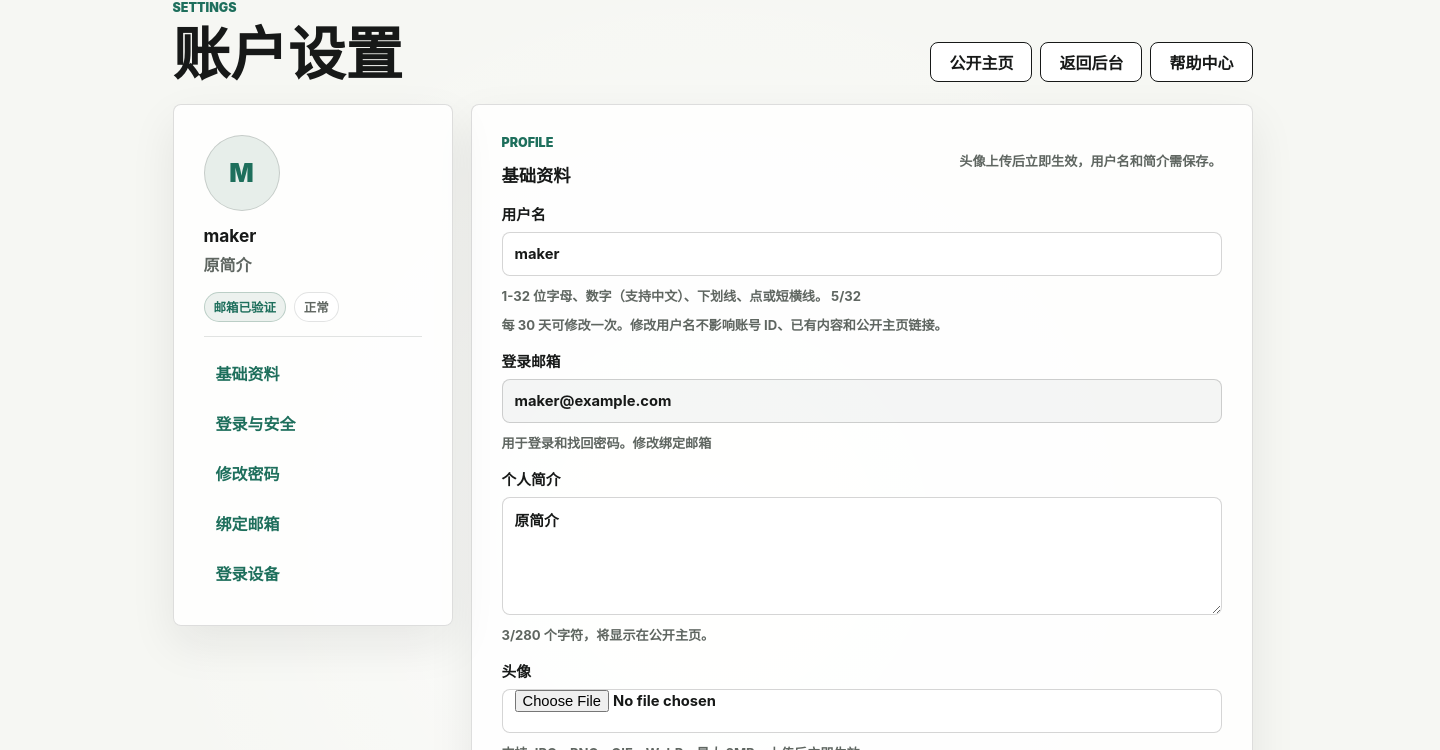
Test: 账号设置操作 › 保存失败保留草稿，重复提交只发一次请求
Replace the text in the text box labelled "个人简介" with "草稿". click: (862, 556)
box: [502,497,1222,615]
(page scrolled)
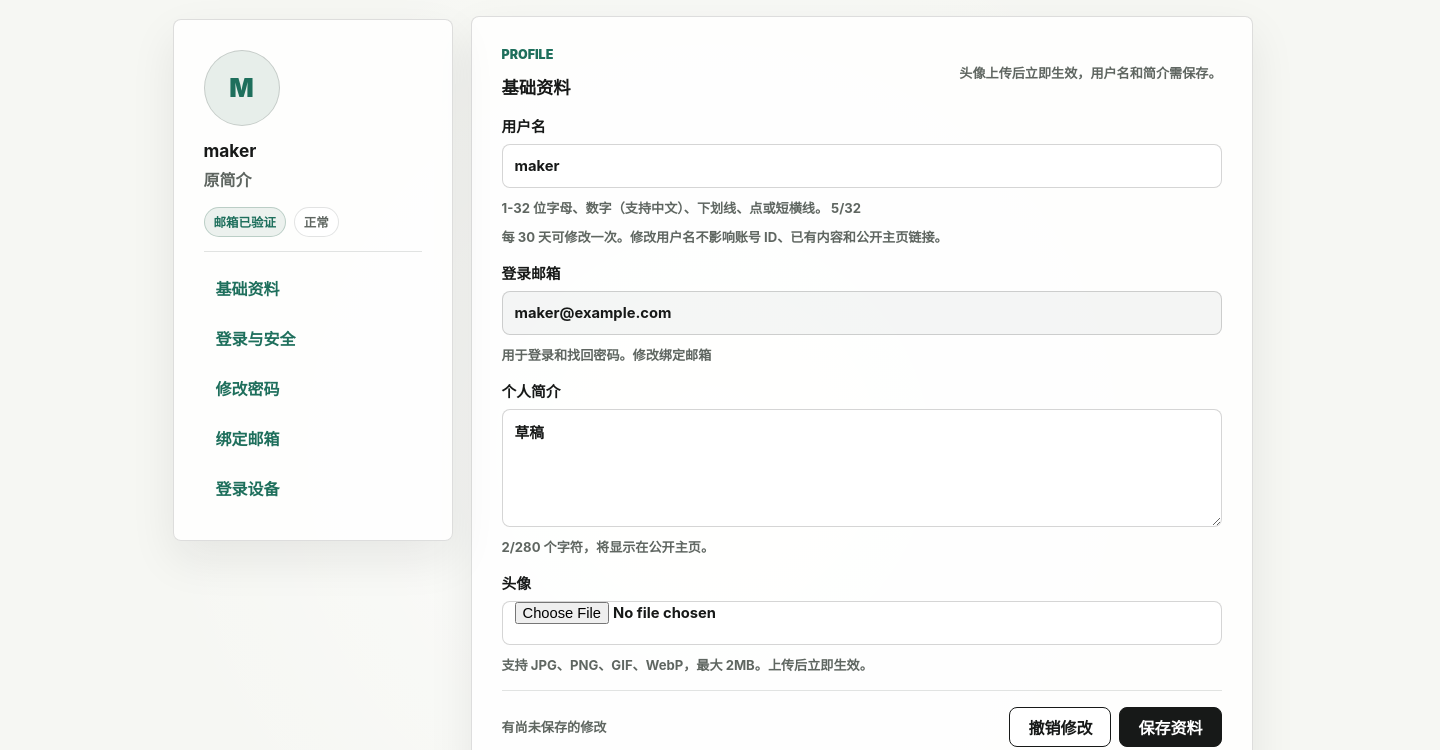
Submit the form with id "settings-profile"
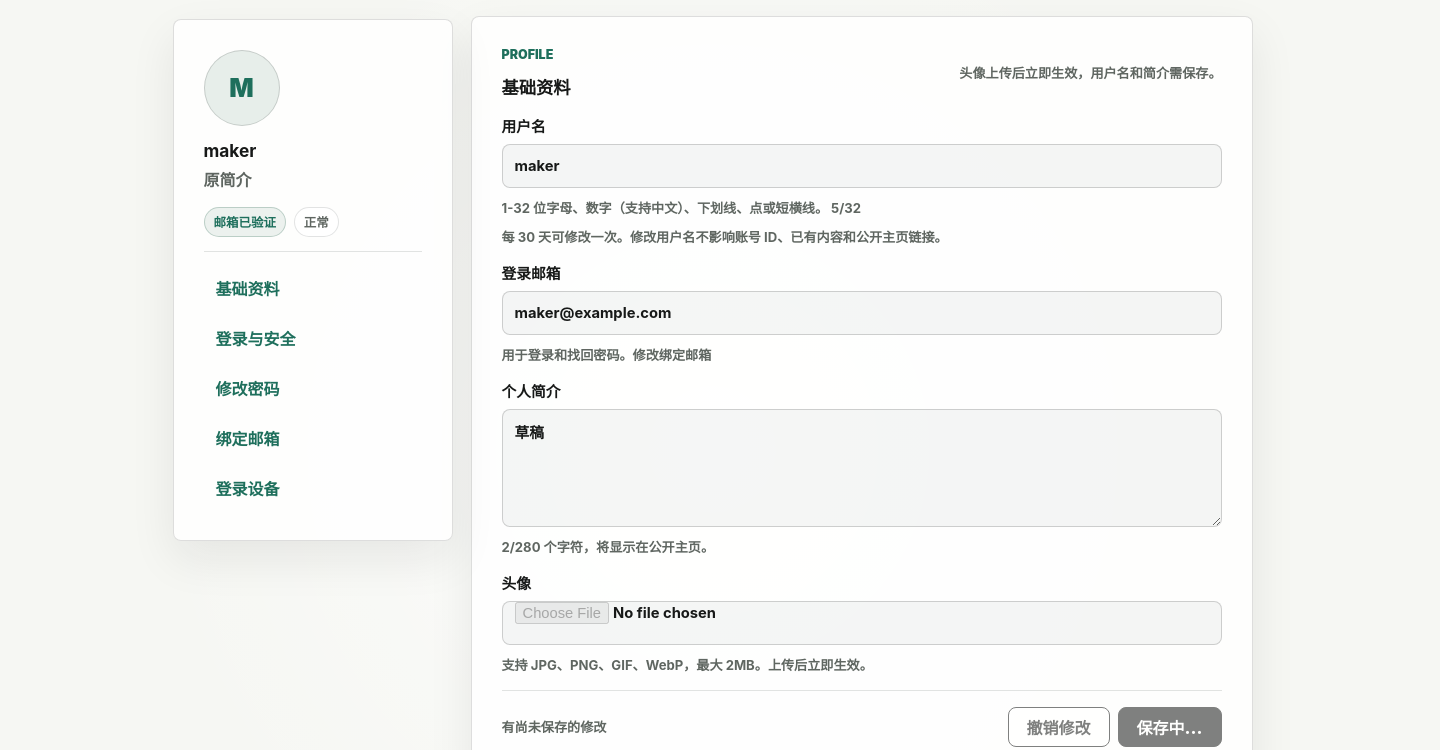
Submit the form with id "settings-profile"
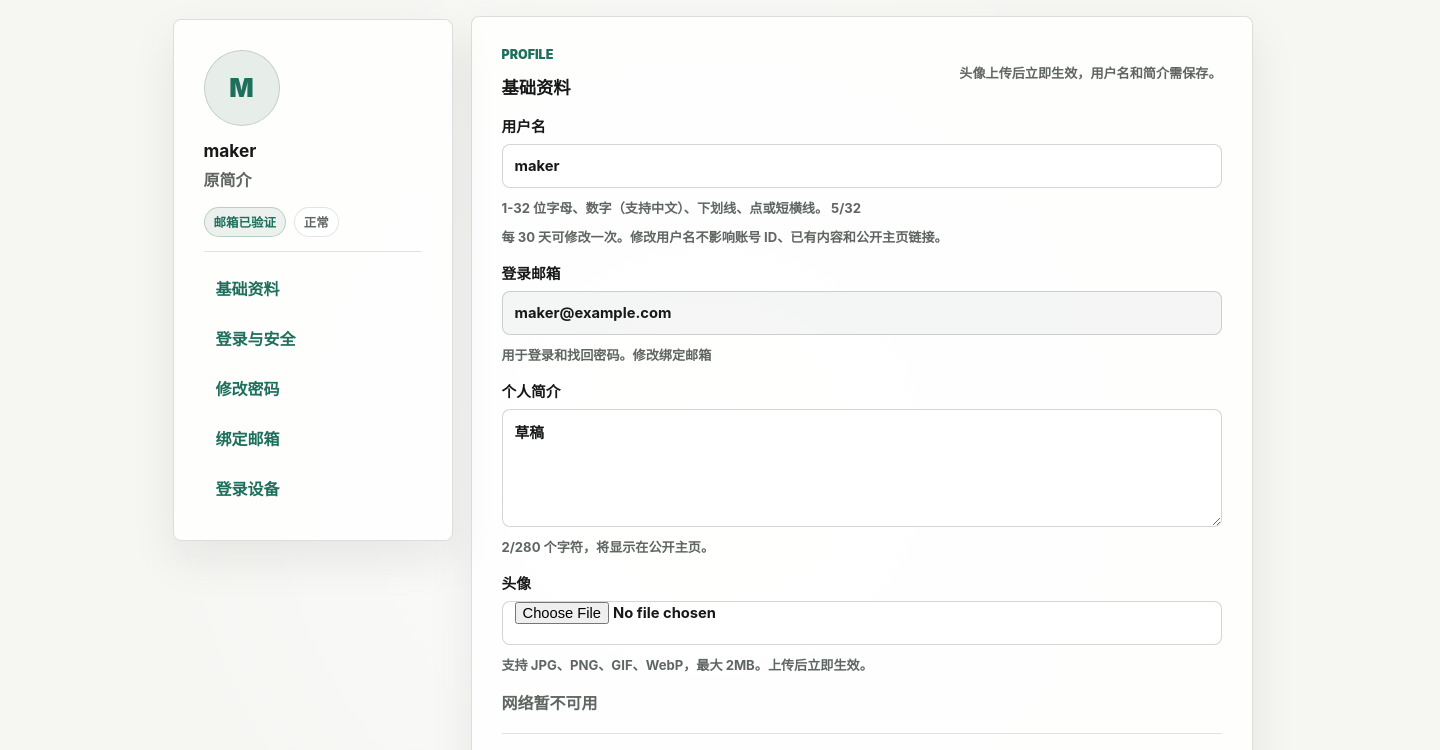
Expected: the text "网络暂不可用" is shown, [502,693,598,713]
